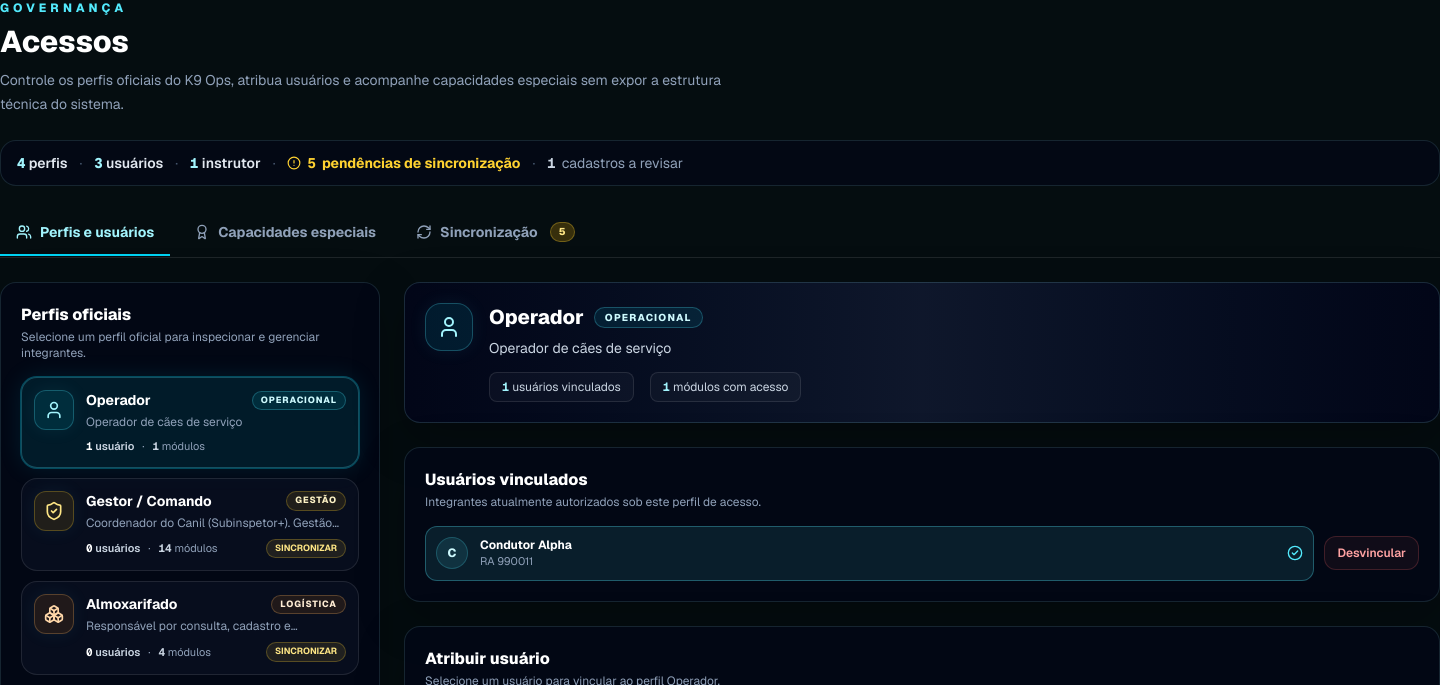
it: AccessProfilesPage (F10.ACCESS-UX.IA-POLISH-V1) › Navigation & Information Architecture › navega para 'Capacidades especiais' separadamente
This screenshot has width=1440, height=685.
Step 1. Click the tab "Capacidades especiais" → coordinates (285, 233), box top-left (178, 210), bottom-right (392, 256)
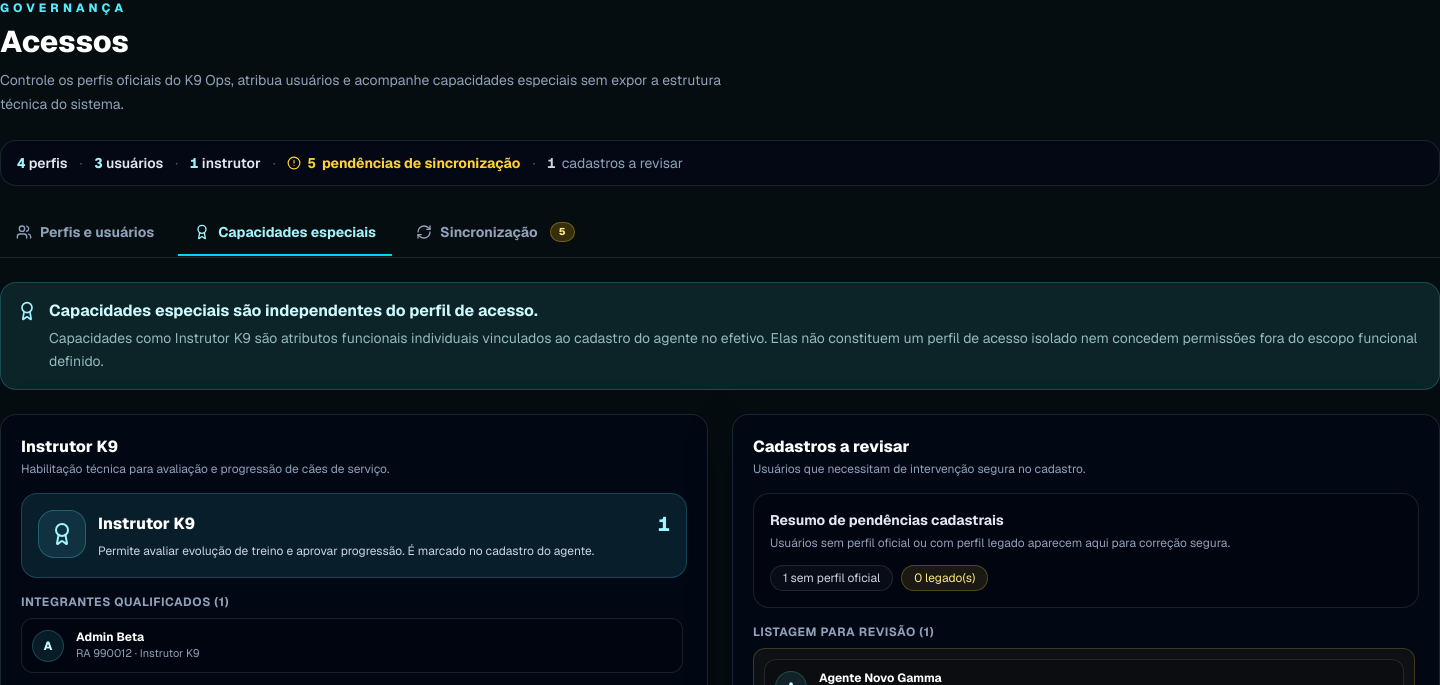
Expected: the text "Capacidades especiais são independentes do perfil de acesso." is shown, top-left (49, 300), bottom-right (538, 321)
Expected: the text "Habilitação técnica para avaliação e progressão" is shown, top-left (21, 461), bottom-right (389, 477)
Expected: the heading "Atribuir usuário" is gone
